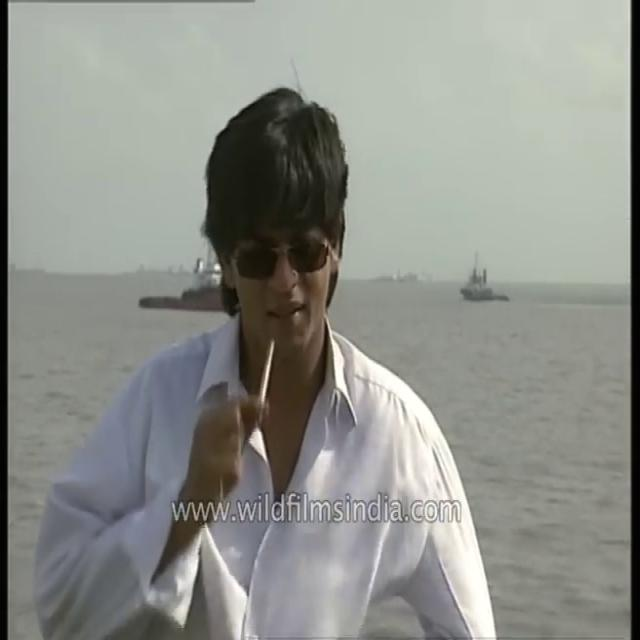Smooking: (247, 329, 280, 399)
